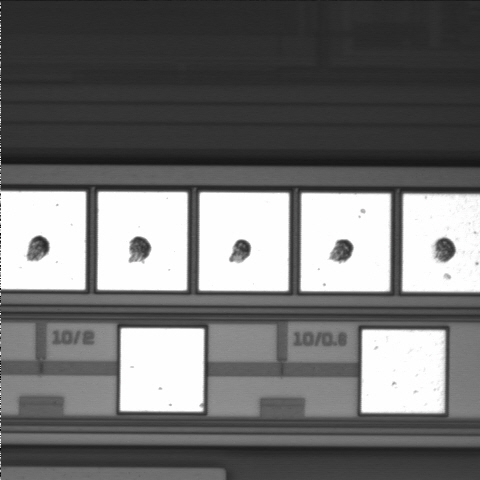pad: (199, 192, 289, 291), (97, 192, 187, 290), (301, 193, 390, 291), (120, 328, 204, 412), (361, 330, 445, 413)
